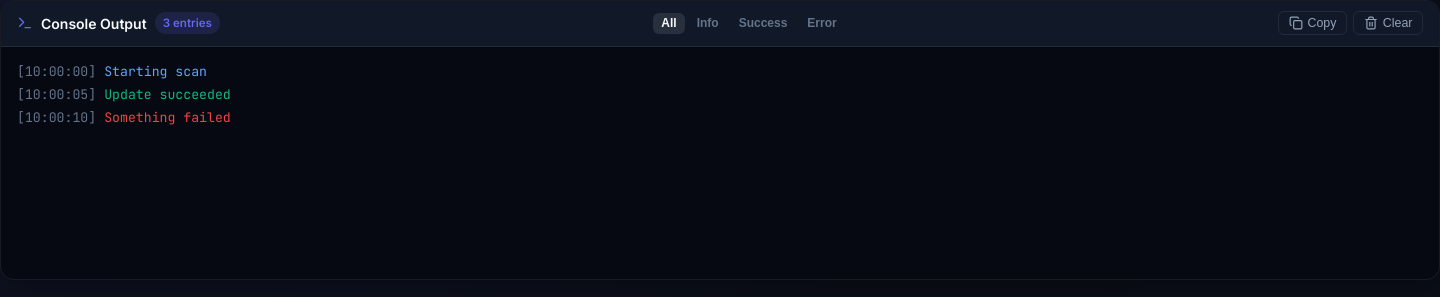
Test: Component: LogPanel › filters logs by type when a filter tab is clicked
Click the button "Error". click: (822,23)
box: [799,13,845,34]
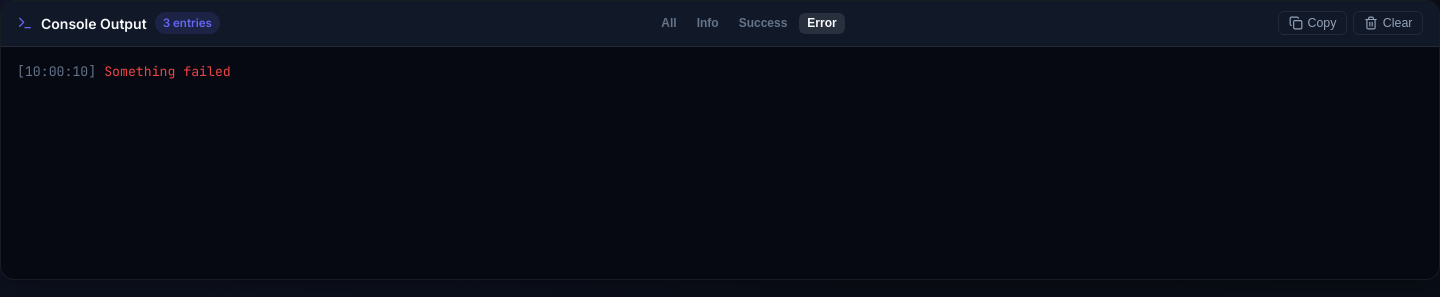
Result: the text "Something failed" is shown at [104,63,231,81]
Result: the text "Starting scan" is gone
Result: the text "Update succeeded" is gone
